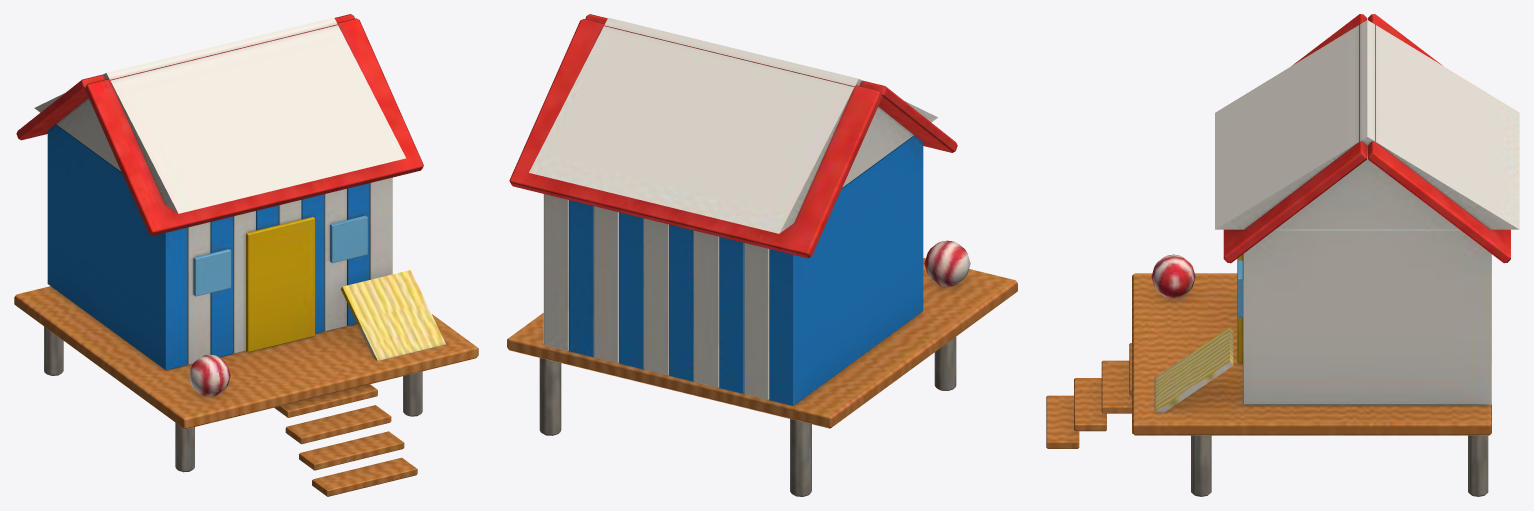
The model's file is beach_hut.glb.
3 views of the same model, side by side, from view 1: azimuth 30°, elevation 25°; view 2: azimuth 150°, elevation 25°; view 3: azimuth 270°, elevation 25° (orthographic). The views are drawn at different scales.
Parts seen in each view (by area): view 1: beach_hut; view 2: beach_hut; view 3: beach_hut.
Boxes of the visible parts, left/top/right/bottom form: beach_hut: left=14, top=14, right=478, bottom=496; beach_hut: left=507, top=14, right=1017, bottom=496; beach_hut: left=1046, top=14, right=1519, bottom=496.
Bounding box in the file's own units: 1.3 × 1.42 × 1.71.
1 material, 1 textured.
